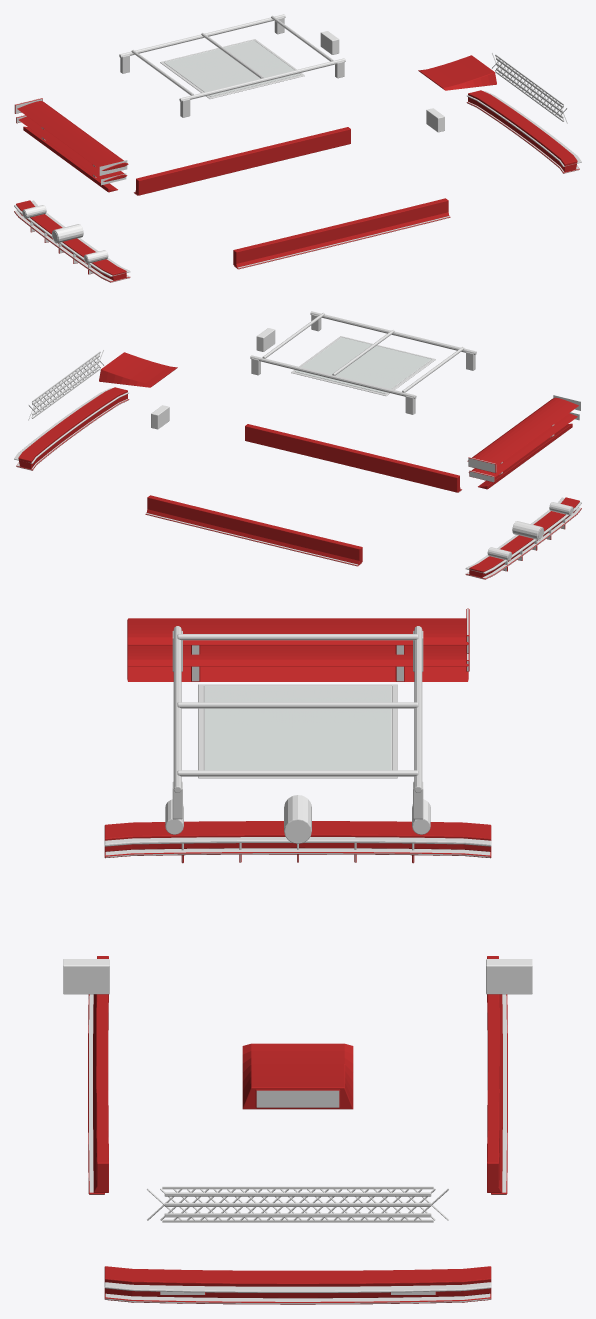
File: cuiabano-molde_pecas.glb
The picture shows the model from 3 angles, top to bottom: view 1: azimuth 30°, elevation 25°; view 2: azimuth 150°, elevation 25°; view 3: azimuth 270°, elevation 25°; orthographic projection. The views are drawn at different scales.
Visible parts, largest first — view 1: saia__esportiva, teto__solar, teto__bagageiro, spoiler__alto, bumper_front__esportivo, saia__lisa, bumper_rear__esportivo, hood__tomada, spoiler__medio, grade__tela, retrovisor__cromado, spoiler__labio (+5 smaller); view 2: saia__esportiva, teto__solar, teto__bagageiro, spoiler__alto, saia__lisa, bumper_front__esportivo, bumper_rear__esportivo, hood__tomada, spoiler__medio, grade__tela, retrovisor__cromado, spoiler__labio (+5 smaller); view 3: teto__solar, bumper_front__esportivo, bumper_rear__esportivo, teto__bagageiro, saia__esportiva, spoiler__alto, hood__tomada, spoiler__medio, spoiler__labio, grade__tela, grade__barras, retrovisor__cromado (+3 smaller).
Part boxes in pixels (left/top/right/bottom): saia__esportiva: left=134, top=127, right=450, bottom=269; teto__solar: left=160, top=39, right=304, bottom=98; teto__bagageiro: left=119, top=14, right=345, bottom=117; spoiler__alto: left=14, top=98, right=128, bottom=177; bumper_front__esportivo: left=466, top=90, right=579, bottom=173; saia__lisa: left=136, top=130, right=448, bottom=264; bumper_rear__esportivo: left=14, top=200, right=130, bottom=282; hood__tomada: left=418, top=55, right=496, bottom=90; spoiler__medio: left=16, top=115, right=127, bottom=185; grade__tela: left=492, top=53, right=567, bottom=123; retrovisor__cromado: left=320, top=31, right=444, bottom=132; spoiler__labio: left=23, top=126, right=117, bottom=192; saia__esportiva: left=145, top=424, right=461, bottom=566; teto__solar: left=291, top=336, right=435, bottom=395; teto__bagageiro: left=250, top=311, right=476, bottom=414; spoiler__alto: left=467, top=395, right=580, bottom=474; saia__lisa: left=147, top=428, right=459, bottom=559; bumper_front__esportivo: left=16, top=387, right=129, bottom=470; bumper_rear__esportivo: left=465, top=497, right=581, bottom=579; hood__tomada: left=99, top=352, right=177, bottom=387; spoiler__medio: left=468, top=412, right=579, bottom=482; grade__tela: left=28, top=350, right=103, bottom=420; retrovisor__cromado: left=151, top=328, right=275, bottom=429; spoiler__labio: left=478, top=423, right=572, bottom=489; teto__solar: left=198, top=684, right=397, bottom=778; bumper_front__esportivo: left=104, top=1266, right=491, bottom=1304; bumper_rear__esportivo: left=104, top=821, right=491, bottom=863; teto__bagageiro: left=172, top=626, right=423, bottom=819; saia__esportiva: left=88, top=956, right=507, bottom=1194; spoiler__alto: left=127, top=608, right=469, bottom=681; hood__tomada: left=242, top=1043, right=353, bottom=1109; spoiler__medio: left=127, top=644, right=469, bottom=681; spoiler__labio: left=127, top=666, right=468, bottom=681; grade__tela: left=147, top=1186, right=448, bottom=1222; grade__barras: left=164, top=1192, right=431, bottom=1217; retrovisor__cromado: left=63, top=959, right=532, bottom=994.
Bounding box in the file's own units: 3.85 × 1.26 × 1.62.
